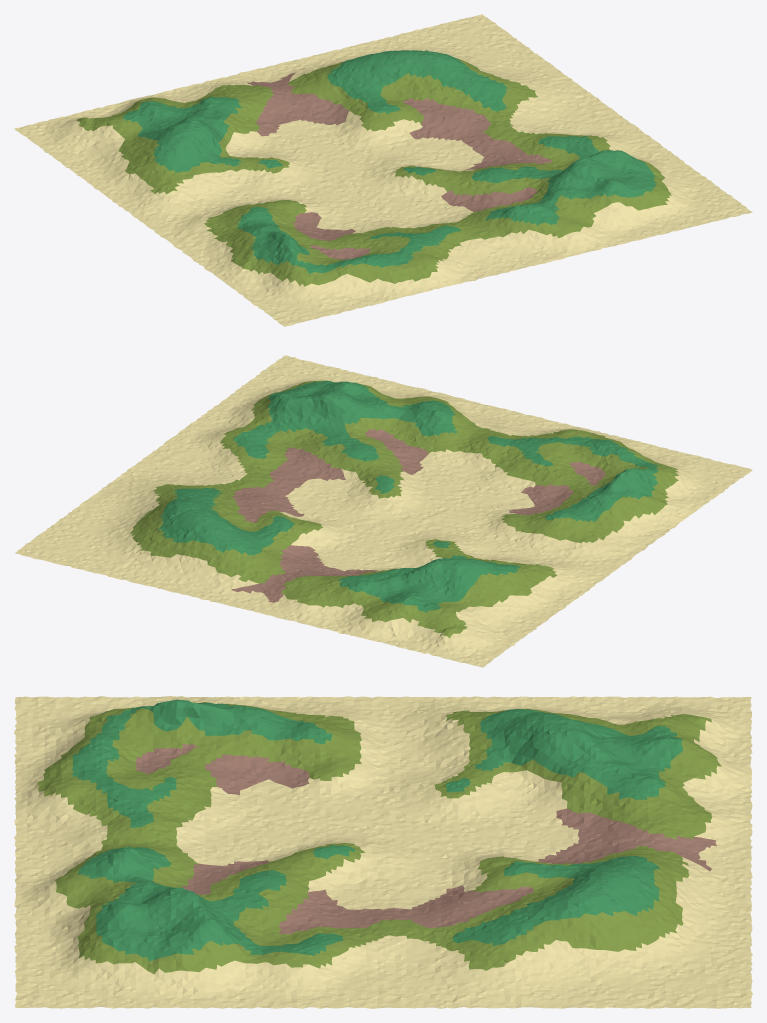
The model's file is ZEME_001.FBX.
3 views of the same model, one above another, from view 1: azimuth 30°, elevation 25°; view 2: azimuth 150°, elevation 25°; view 3: azimuth 270°, elevation 25° (orthographic). The views are drawn at different scales.
Parts seen in each view (by area): view 1: ZEME_001; view 2: ZEME_001; view 3: ZEME_001.
Boxes of the visible parts, bbox=[...] form: ZEME_001: bbox=[14, 14, 752, 326]; ZEME_001: bbox=[14, 355, 752, 667]; ZEME_001: bbox=[14, 696, 752, 1008].
Bounding box in the file's own units: 200837 × 13665 × 200837.
Materials: 1 (1 with a texture image).
